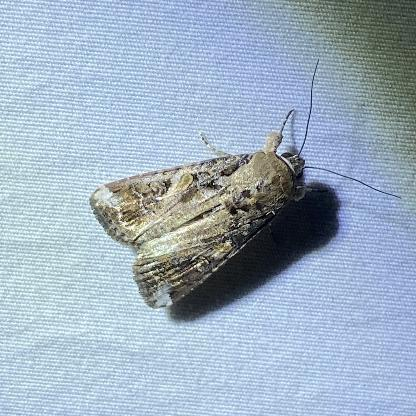Fall Armyworm Moth: (86, 56, 404, 314)
